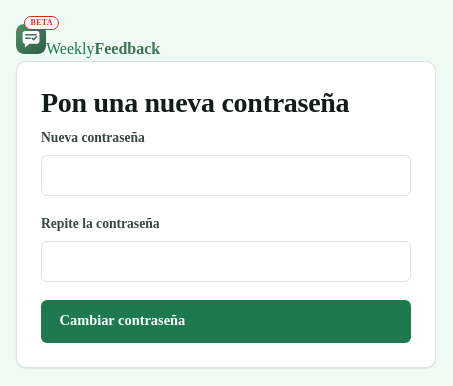
Test: ResetPasswordPage › contraseñas que coinciden: manda token+password al backend y muestra éxito
The width and height of the screenshot is (453, 386).
Type "password123" into the password field labelled "Nueva contraseña" at (226, 176), box left=41, top=155, right=411, bottom=196
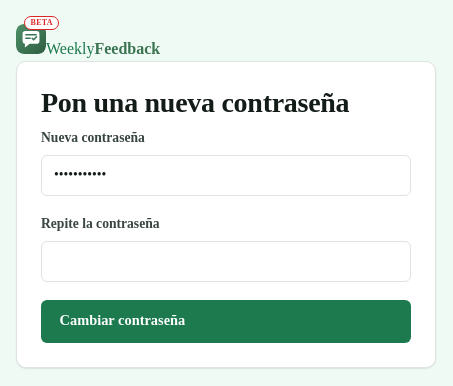
Type "password123" into the password field labelled "Repite la contraseña" at (226, 262), box left=41, top=241, right=411, bottom=282
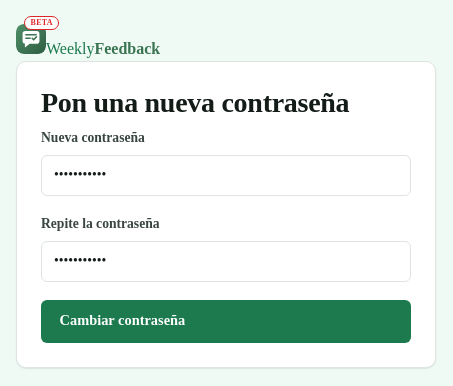
Click the button "Cambiar contraseña" at (122, 320), box left=41, top=300, right=411, bottom=343
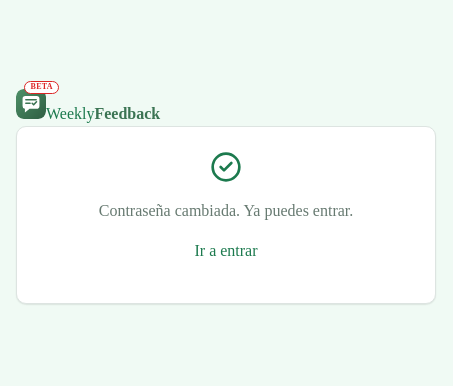
Check: the text "Contraseña cambiada. Ya puedes entrar." is shown, box left=99, top=202, right=353, bottom=218
